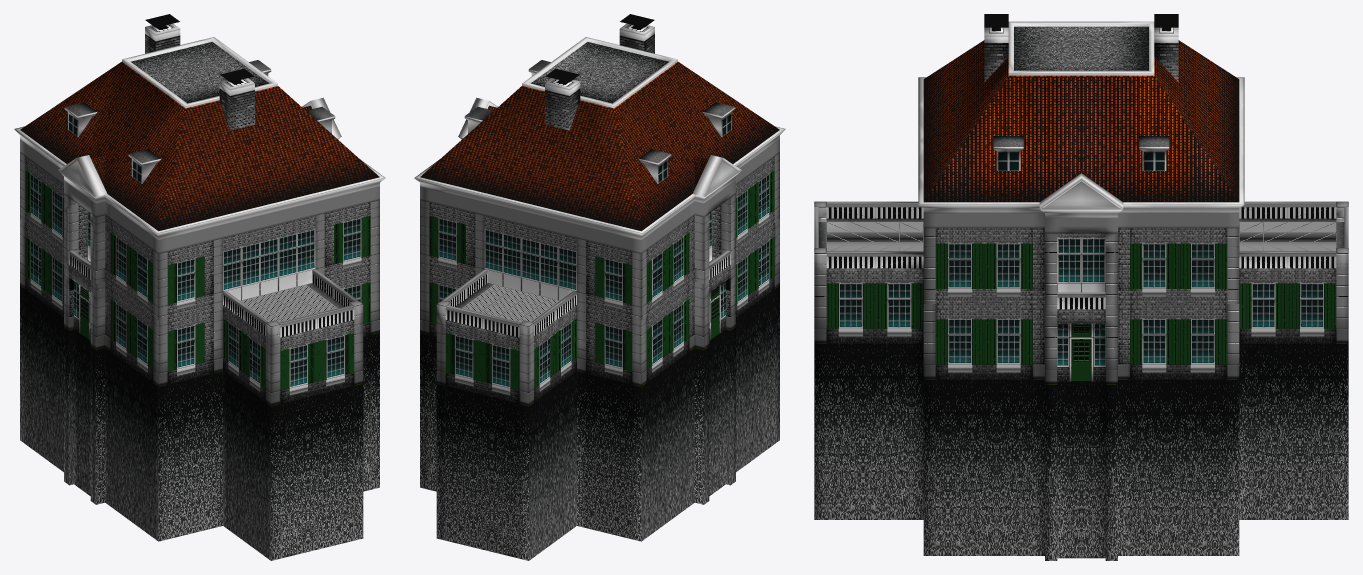
File: landhuis_mod2_1a.fbx
The picture shows the model from 3 angles, left to right: view 1: azimuth 30°, elevation 25°; view 2: azimuth 150°, elevation 25°; view 3: azimuth 270°, elevation 25°; orthographic projection. The views are drawn at different scales.
Parts seen in each view (by area): view 1: landhuis_mod2_1a; view 2: landhuis_mod2_1a; view 3: landhuis_mod2_1a.
Boxes of the visible parts, x1,y1,x2,y2 form: landhuis_mod2_1a: [14, 14, 385, 560]; landhuis_mod2_1a: [414, 14, 785, 560]; landhuis_mod2_1a: [814, 14, 1348, 560].
Size of the model in its own units: 1506 by 2421 by 2475.
